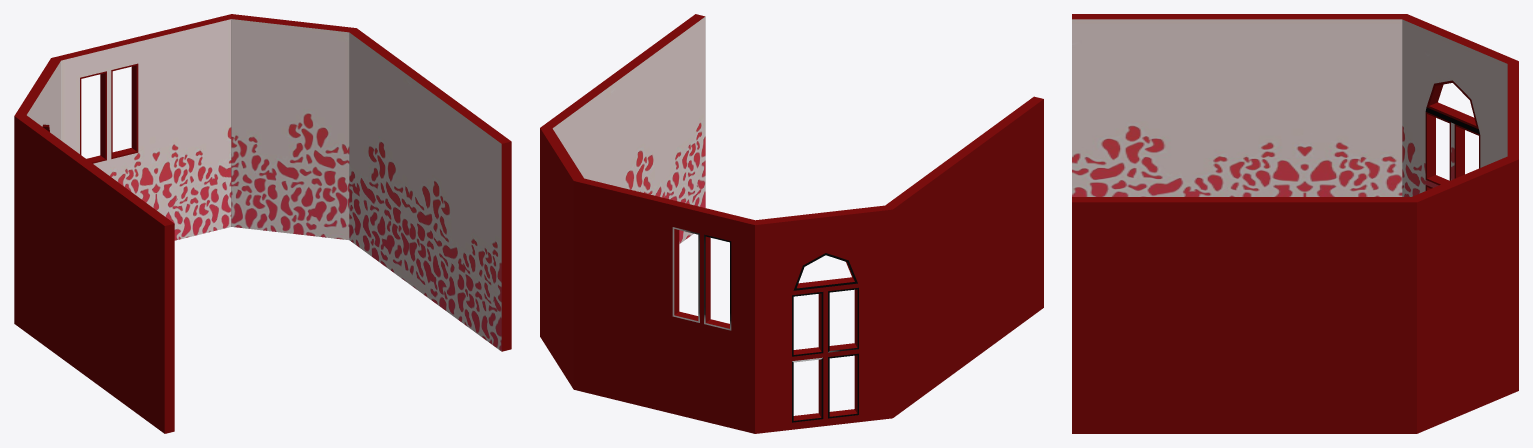
File: k_duvar.obj
3 views of the same model, side by side, from view 1: azimuth 30°, elevation 25°; view 2: azimuth 150°, elevation 25°; view 3: azimuth 270°, elevation 25° (orthographic). The views are drawn at different scales.
Visible parts, largest first — view 1: Cube.160_wall_red, Cube.160_m_koyukırmızı; view 2: Cube.160_m_koyukırmızı, Cube.160_wall_red; view 3: Cube.160_m_koyukırmızı, Cube.160_wall_red.
Part boxes in pixels (x1=…): Cube.160_wall_red: x1=27, y1=19, x2=501, y2=351; Cube.160_m_koyukırmızı: x1=14, y1=14, x2=511, y2=433; Cube.160_m_koyukırmızı: x1=540, y1=14, x2=1043, y2=433; Cube.160_wall_red: x1=552, y1=16, x2=858, y2=422; Cube.160_m_koyukırmızı: x1=1072, y1=14, x2=1518, y2=433; Cube.160_wall_red: x1=1072, y1=19, x2=1507, y2=196.
Size of the model in its own units: 68.08 by 38.99 by 68.21.
